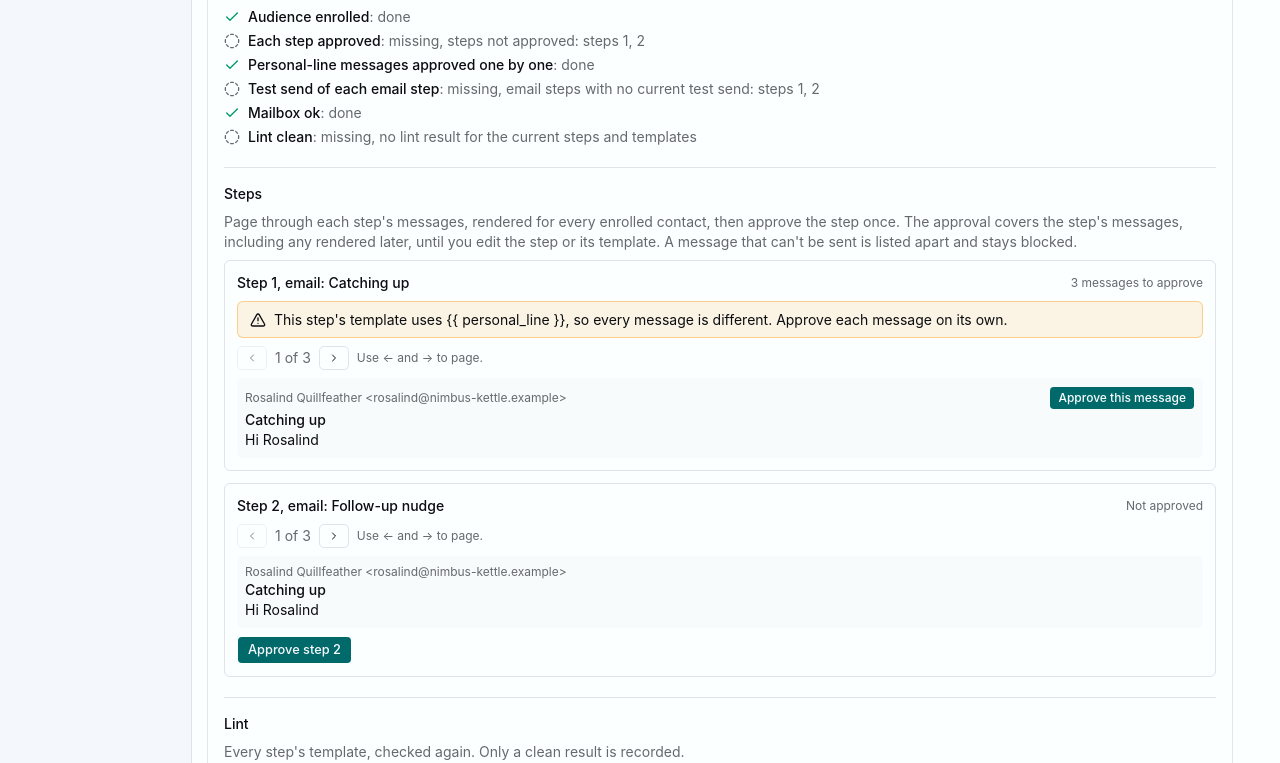
Test case: step review › asks for each message of a personal_line step on its own
This screenshot has width=1280, height=763.
(page scrolled)
Expected: the text "uses {{ personal_line }}" is shown, [274,310,1008,329]
Expected: the text "3 messages to approve" is shown, [1071,275,1203,291]
Click the button "Approve this message": coordinates (1122, 398) [1049,386,1195,410]
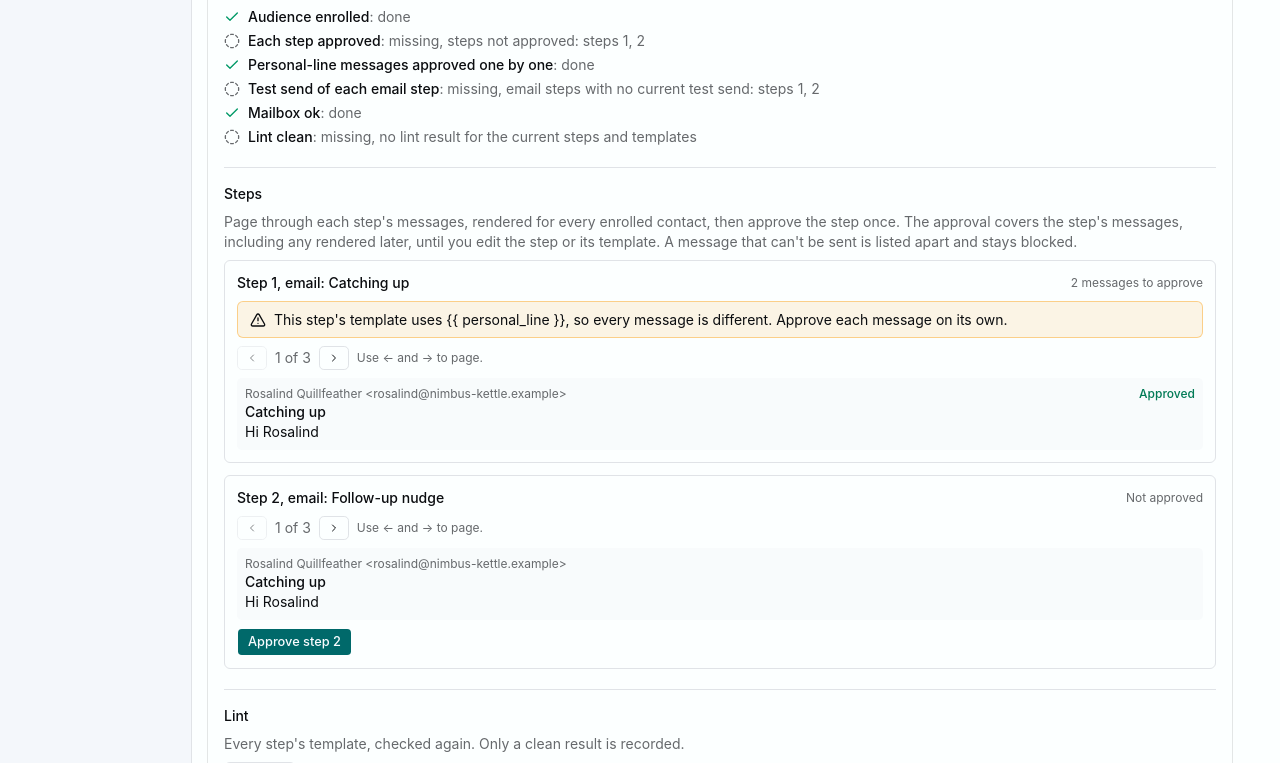
Result: the text "2 messages to approve" is shown at [1071,275,1203,291]
Result: the text "Approved" is shown at [1139,386,1195,402]
